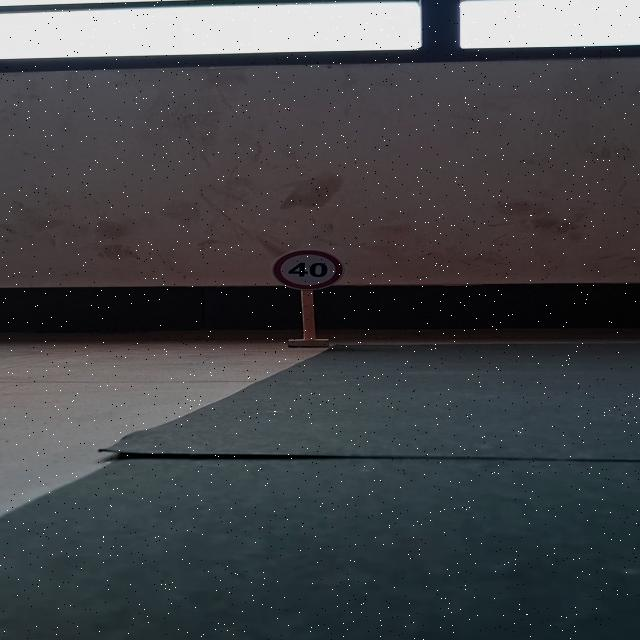Speed40: (268, 248, 348, 292)
